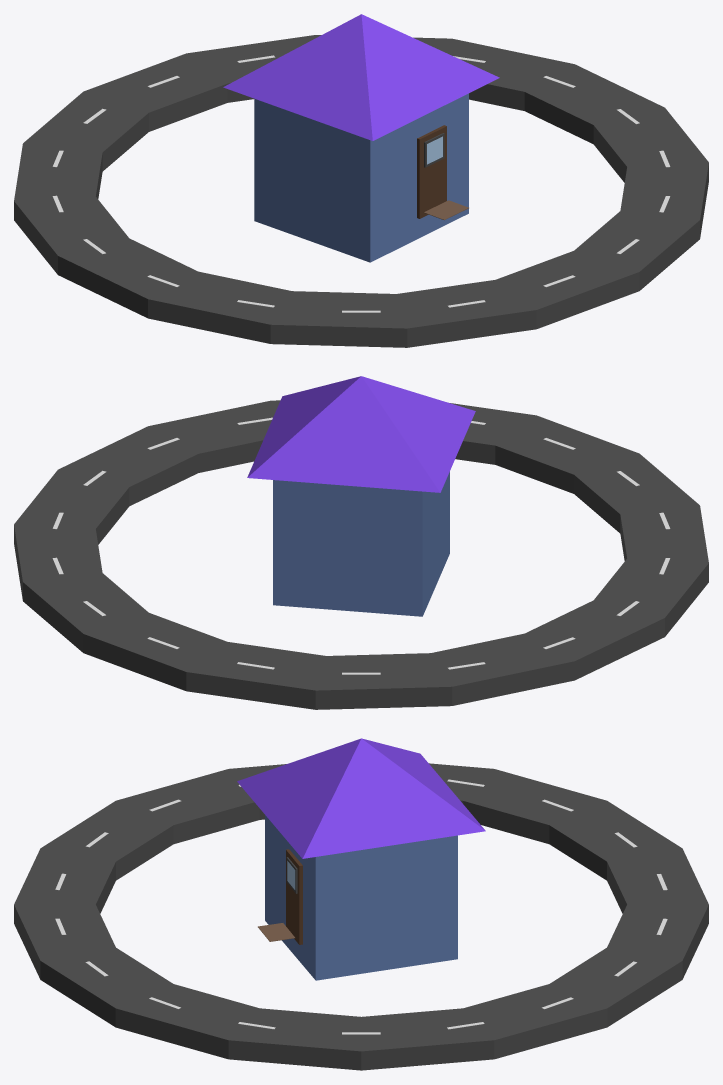
The model's file is city_02_1.fbx.
3 renders of one model, top to bottom at view 1: azimuth 30°, elevation 25°; view 2: azimuth 150°, elevation 25°; view 3: azimuth 270°, elevation 25°, orthographic.
Visible parts, largest first — view 1: street.001, house, roof, doorFront.001, laneMarkings, windowBack.002; view 2: street.001, house, roof, laneMarkings; view 3: street.001, house, roof, laneMarkings, doorFront.001.
Part boxes in pixels (box(x1,y1,x2,y2)): street.001: box(14, 35, 708, 347); house: box(254, 93, 468, 262); roof: box(223, 14, 499, 140); doorFront.001: box(417, 125, 446, 218); laneMarkings: box(52, 55, 670, 312); windowBack.002: box(424, 133, 444, 167); street.001: box(14, 400, 708, 709); house: box(273, 471, 449, 616); roof: box(247, 376, 475, 492); laneMarkings: box(52, 417, 670, 674); street.001: box(14, 763, 708, 1070); house: box(265, 815, 457, 980); roof: box(237, 738, 485, 858); laneMarkings: box(55, 779, 667, 1034); doorFront.001: box(286, 849, 302, 944).
Bounding box in the file's own units: 86.3 × 27.61 × 86.3.
